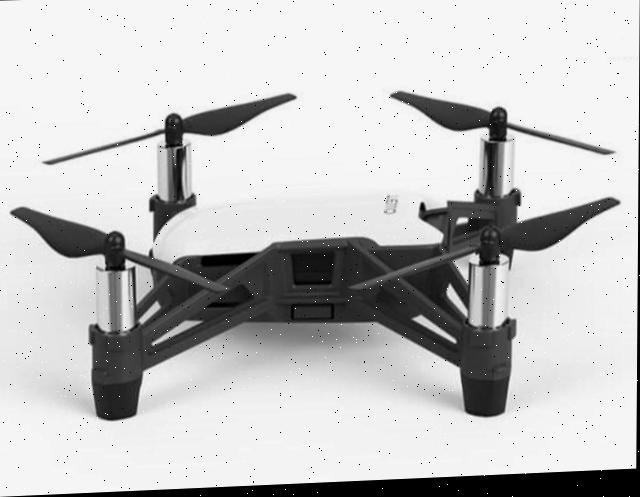drone: (0, 34, 640, 497)
